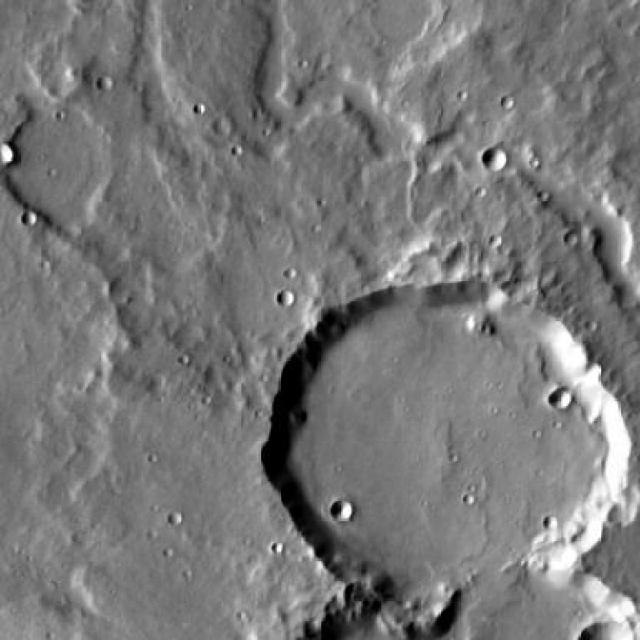crater: (280, 283, 612, 582), (0, 107, 117, 219), (482, 150, 506, 173), (0, 144, 23, 168), (332, 500, 356, 522), (552, 386, 574, 408), (277, 289, 295, 306), (22, 209, 38, 225), (18, 0, 36, 5)
